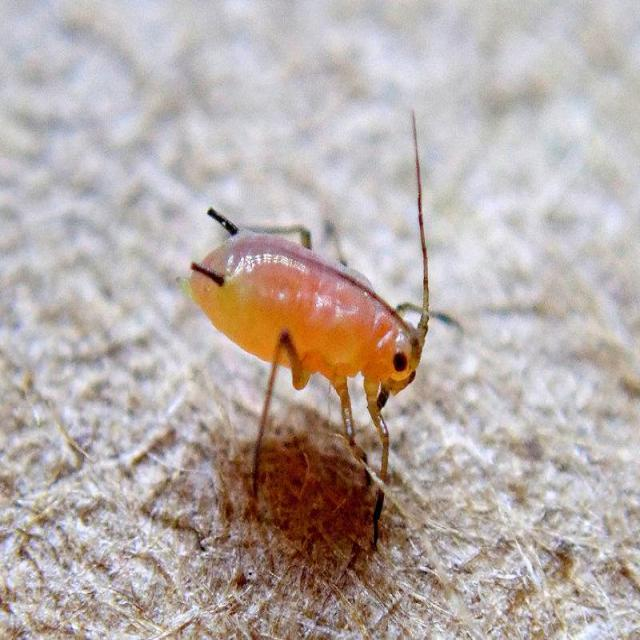aphid: (164, 130, 473, 578)
